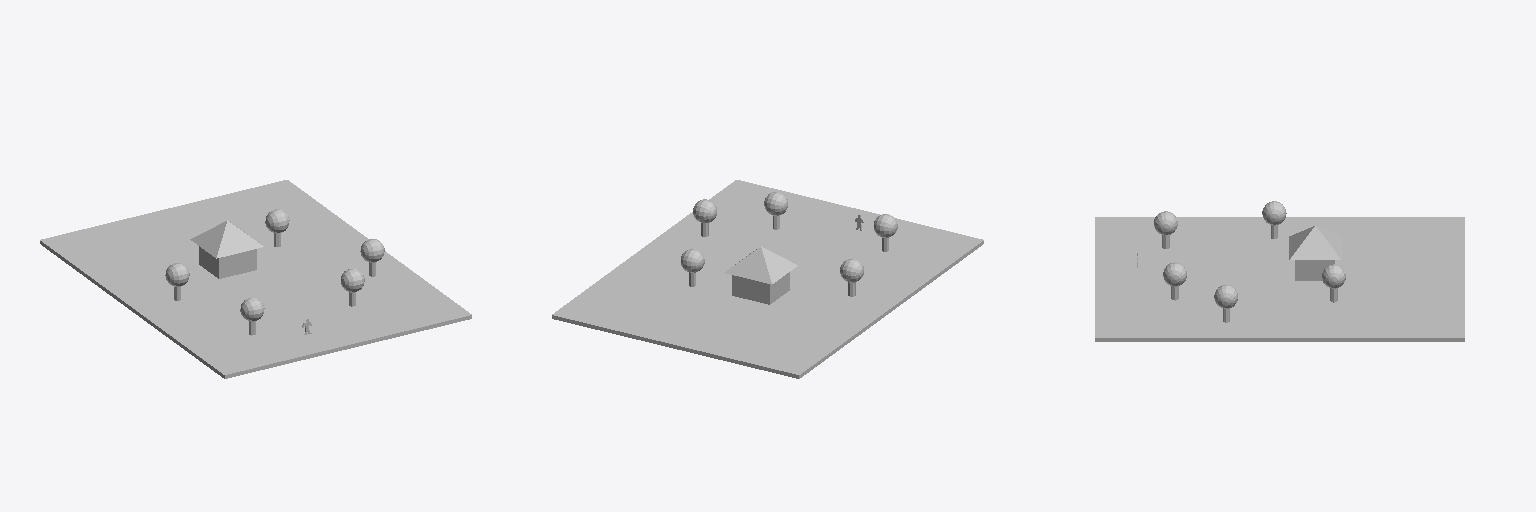
Rendered from house with trees.obj.
The picture shows the model from 3 angles: view 1: azimuth 30°, elevation 25°; view 2: azimuth 150°, elevation 25°; view 3: azimuth 270°, elevation 25°; orthographic projection.
Visible parts, largest first — view 1: Box01, Roof, House; view 2: Box01, Roof, House; view 3: Box01, Roof, House.
Part boxes in pixels (bbox=[...]): Box01: bbox=[40, 180, 471, 378]; Roof: bbox=[190, 220, 263, 258]; House: bbox=[199, 246, 256, 278]; Box01: bbox=[552, 180, 983, 378]; Roof: bbox=[724, 247, 797, 284]; House: bbox=[732, 272, 789, 304]; Box01: bbox=[1095, 217, 1464, 341]; Roof: bbox=[1289, 225, 1341, 259]; House: bbox=[1295, 260, 1334, 280].
Bounding box in the file's own units: 54.19 × 10.58 × 70.09.